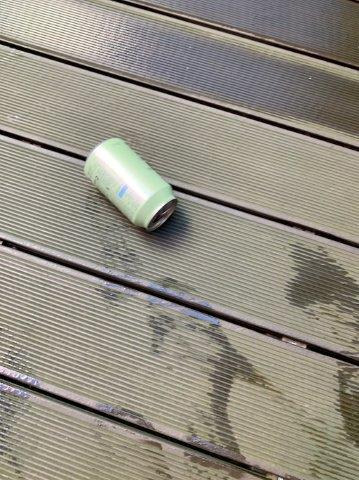kaleng: (86, 139, 177, 229)
